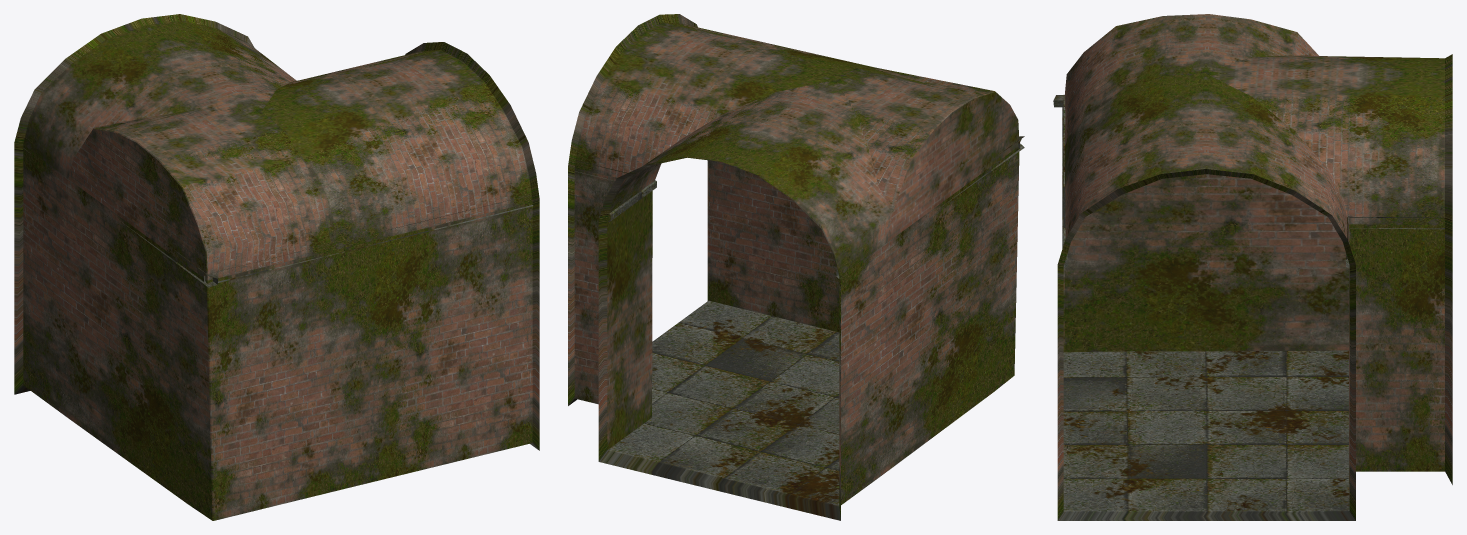
The model's file is TunnelCorner.FBX.
3 renders of one model, left to right at view 1: azimuth 30°, elevation 25°; view 2: azimuth 150°, elevation 25°; view 3: azimuth 270°, elevation 25°, orthographic. The views are drawn at different scales.
Visible parts, largest first — view 1: TunnelCorner; view 2: TunnelCorner; view 3: TunnelCorner.
Part boxes in pixels (x1,y1,x2,y2): TunnelCorner: (14, 14, 539, 520); TunnelCorner: (568, 14, 1024, 520); TunnelCorner: (1053, 14, 1452, 520).
Size of the model in its own units: 412 by 412 by 419.
